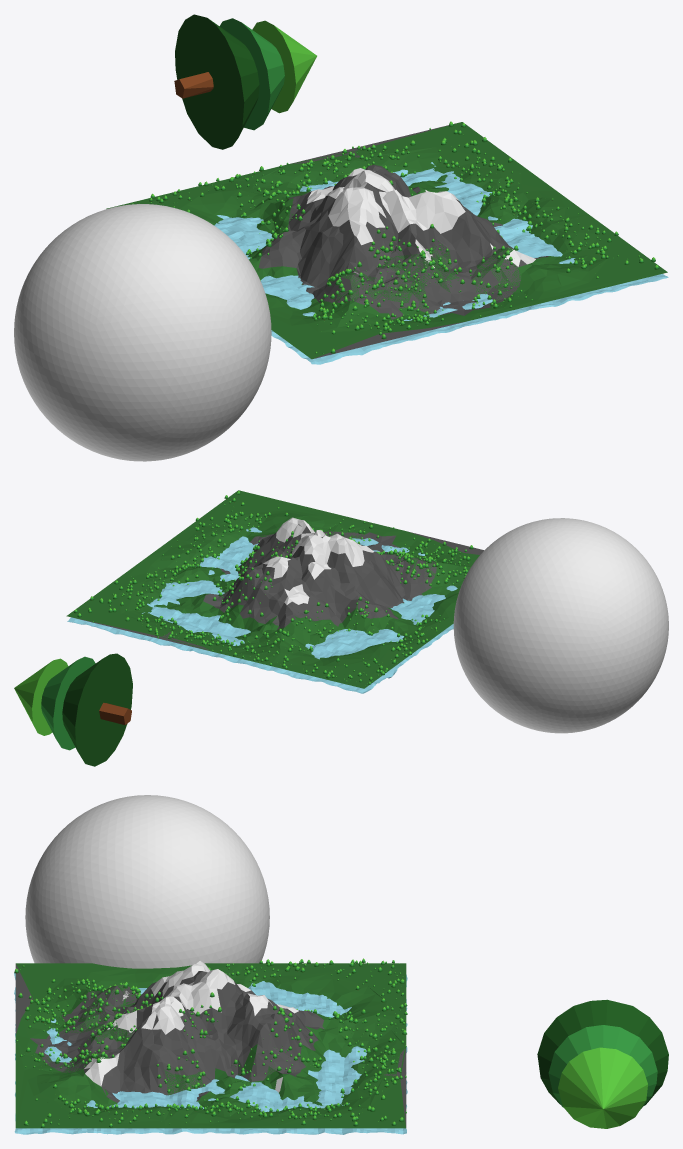
The model's file is low poly background Mountain.fbx.
The picture shows the model from 3 angles, top to bottom: view 1: azimuth 30°, elevation 25°; view 2: azimuth 150°, elevation 25°; view 3: azimuth 270°, elevation 25°; orthographic projection. The views are drawn at different scales.
Visible parts, largest first — view 1: Landscape, Icosphere, Cone, Landscape_plane; view 2: Landscape, Icosphere, Cone, Landscape_plane; view 3: Landscape, Icosphere, Cone, Landscape_plane.
Boxes of the visible parts, x1=… form: Landscape: x1=106, y1=122, x2=667, y2=359; Icosphere: x1=14, y1=204, x2=271, y2=461; Cone: x1=174, y1=14, x2=316, y2=149; Landscape_plane: x1=214, y1=162, x2=668, y2=364; Landscape: x1=66, y1=490, x2=483, y2=688; Icosphere: x1=453, y1=518, x2=668, y2=733; Cone: x1=14, y1=653, x2=132, y2=766; Landscape_plane: x1=67, y1=527, x2=457, y2=693; Landscape: x1=15, y1=961, x2=406, y2=1128; Icosphere: x1=25, y1=795, x2=269, y2=968; Cone: x1=537, y1=999, x2=668, y2=1128; Landscape_plane: x1=14, y1=973, x2=407, y2=1134.
Bounding box in the file's own units: 319 × 125 × 335.
